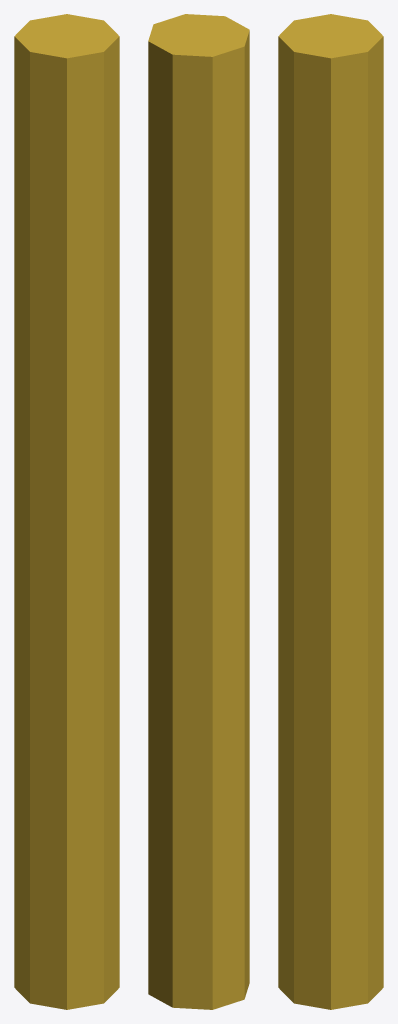
File: HutPoll.fbx
The picture shows the model from 3 angles, left to right: view 1: azimuth 90°, elevation 25°; view 2: azimuth 150°, elevation 25°; view 3: azimuth 270°, elevation 25°; orthographic projection.
Visible parts, largest first — view 1: HutPoll; view 2: HutPoll; view 3: HutPoll.
Part boxes in pixels (bbox=[...]): HutPoll: bbox=[14, 14, 119, 1009]; HutPoll: bbox=[148, 14, 249, 1009]; HutPoll: bbox=[278, 14, 383, 1009].
Size of the model in its own units: 50 by 500 by 50.
